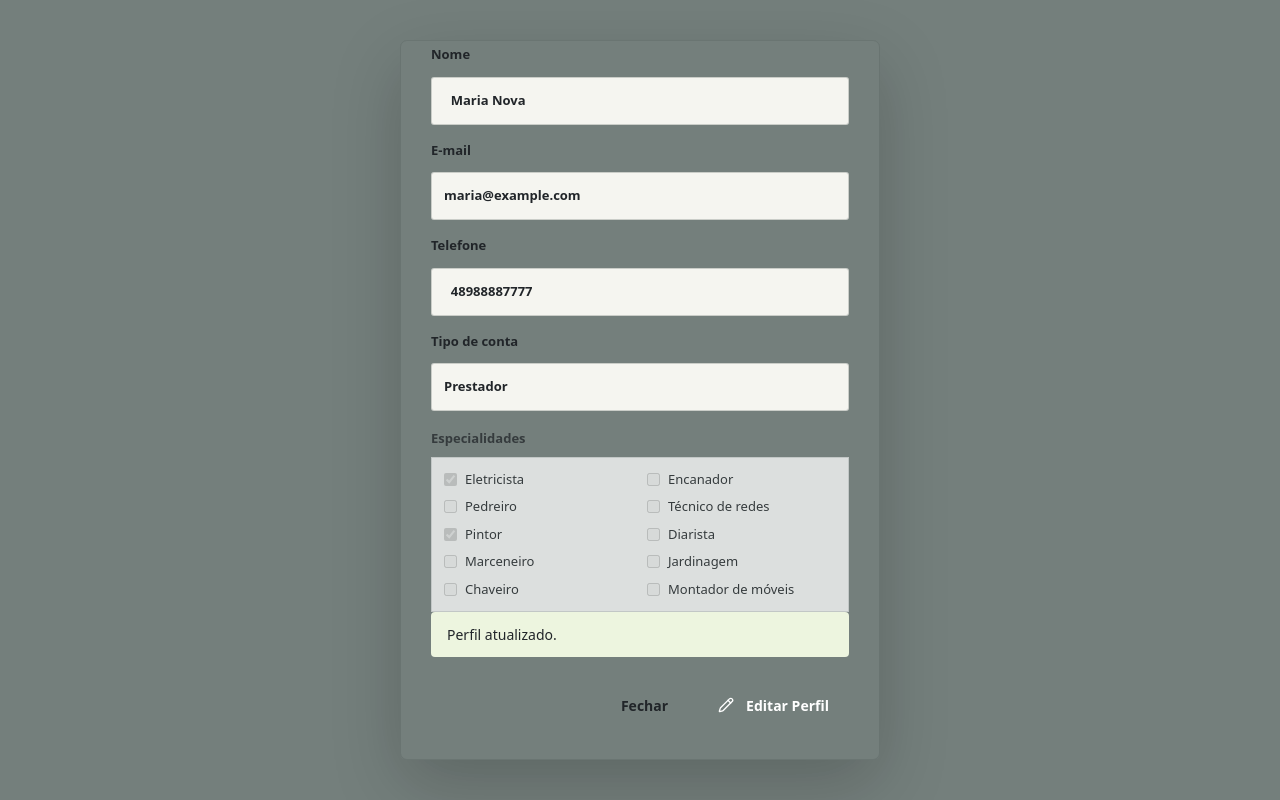
Test: ModalPerfilUsuario › envia o payload editado limpo e oculta sucesso ao voltar a editar
Earlier steps of the test are not shown.
(page scrolled)
Expected: the message reads "Perfil atualizado.", [447, 625, 557, 644]
Click the button "Editar Perfil" at (774, 705), box [698, 681, 849, 729]
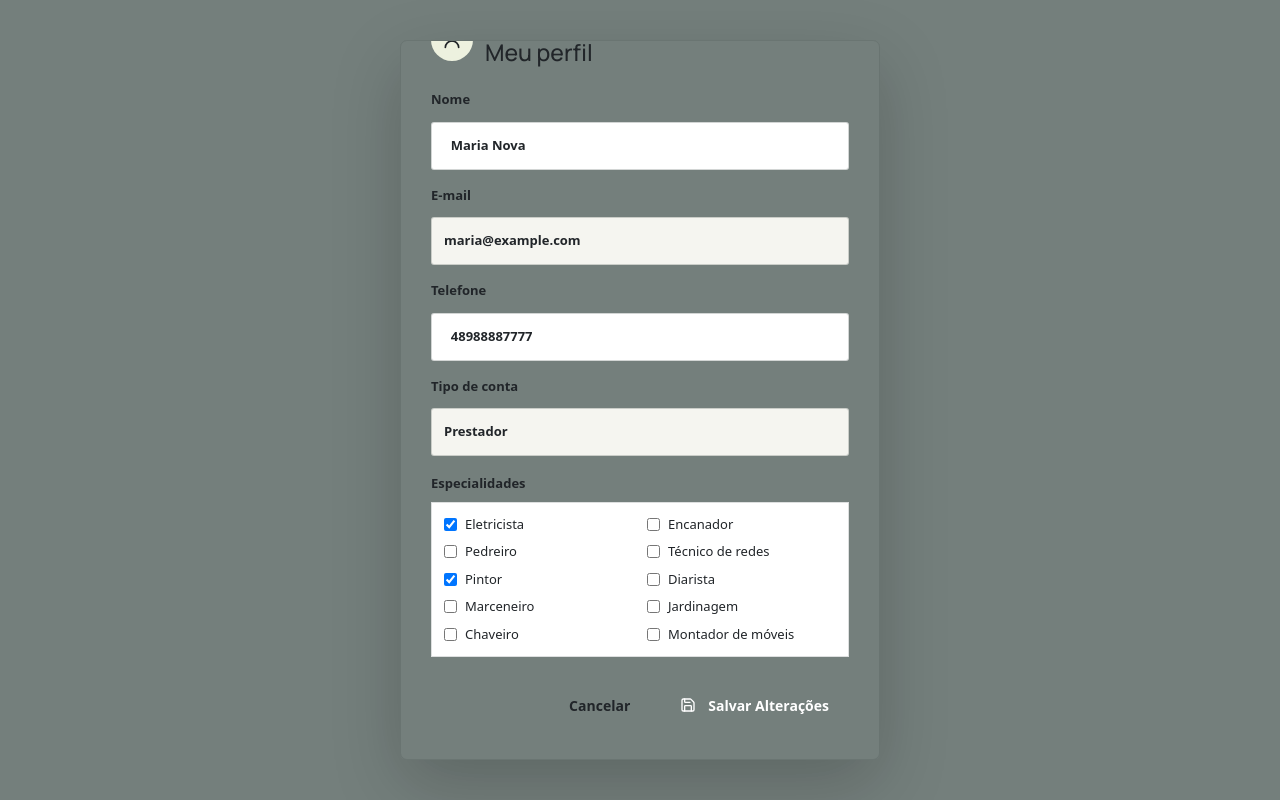
Expected: the message "Perfil atualizado." is gone
